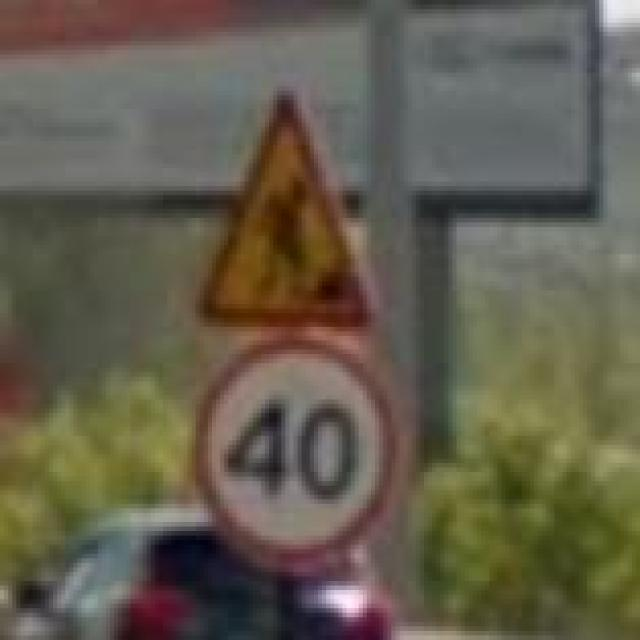Ograniczenie predkosci do 40: (192, 331, 400, 572)
